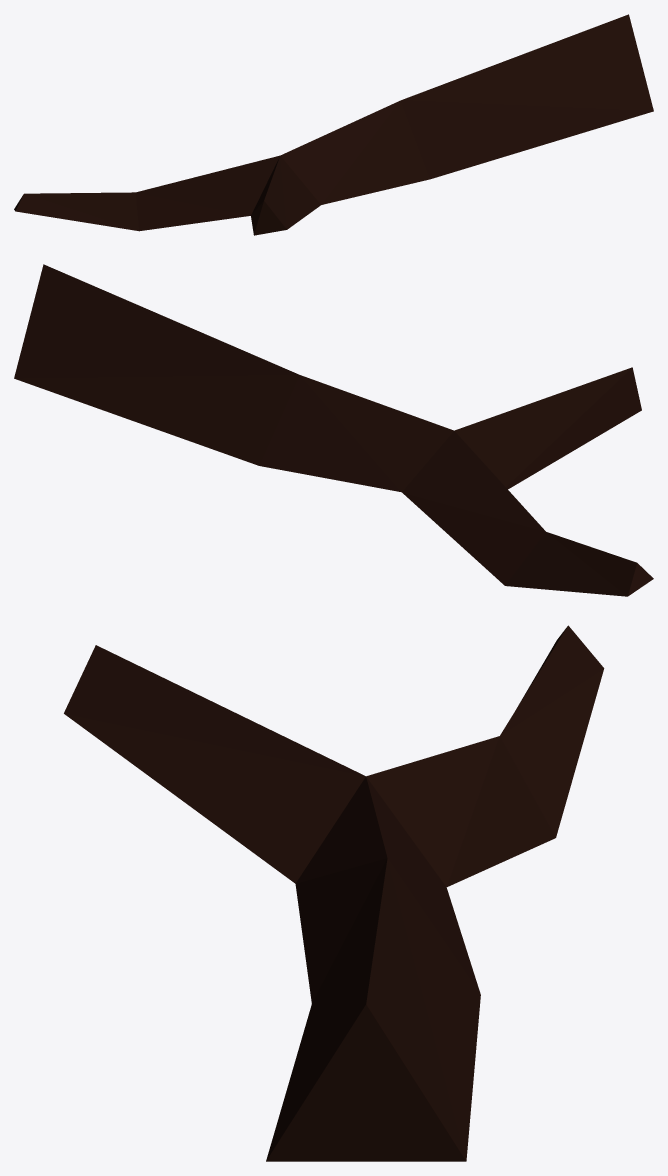
Rendered from PineBranch3.fbx.glb.
The picture shows the model from 3 angles, top to bottom: view 1: azimuth 30°, elevation 25°; view 2: azimuth 150°, elevation 25°; view 3: azimuth 270°, elevation 25°; orthographic projection. The views are drawn at different scales.
Parts seen in each view (by area): view 1: PineBranch3; view 2: PineBranch3; view 3: PineBranch3.
Part boxes in pixels (<box>): PineBranch3: <box>14,14,653,235</box>; PineBranch3: <box>14,264,653,596</box>; PineBranch3: <box>64,625,604,1161</box>.
Bounding box in the file's own units: 113 × 25.06 × 46.81.
